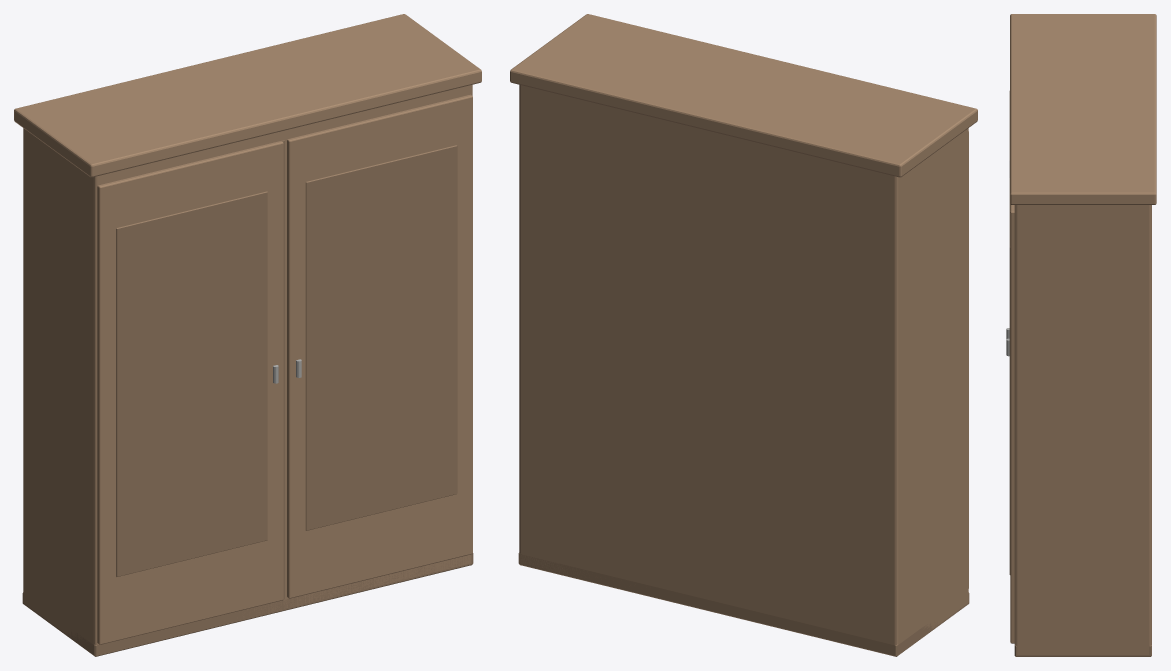
File: wardrobe_01.glb
3 views of the same model, side by side, from view 1: azimuth 30°, elevation 25°; view 2: azimuth 150°, elevation 25°; view 3: azimuth 270°, elevation 25° (orthographic). The views are drawn at different scales.
Parts seen in each view (by area): view 1: wardrobe_01; view 2: wardrobe_01; view 3: wardrobe_01.
Boxes of the visible parts, bbox=[...] form: wardrobe_01: bbox=[14, 14, 481, 656]; wardrobe_01: bbox=[510, 14, 977, 656]; wardrobe_01: bbox=[1006, 14, 1156, 656].
Bounding box in the file's own units: 1.86 × 2.25 × 0.656.
